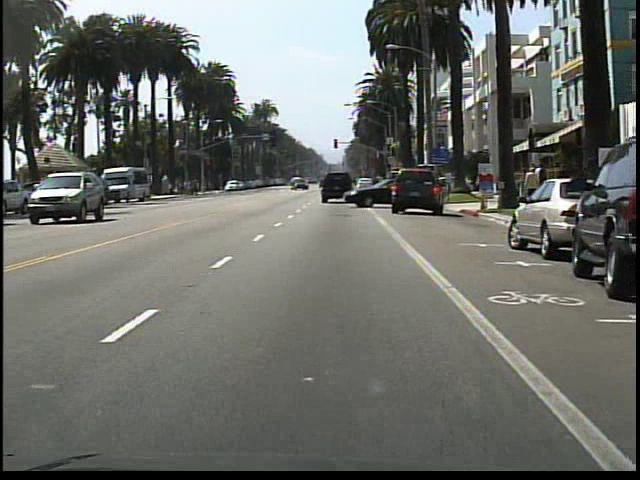person: (535, 161, 550, 205), (522, 163, 538, 201), (370, 170, 386, 205)
